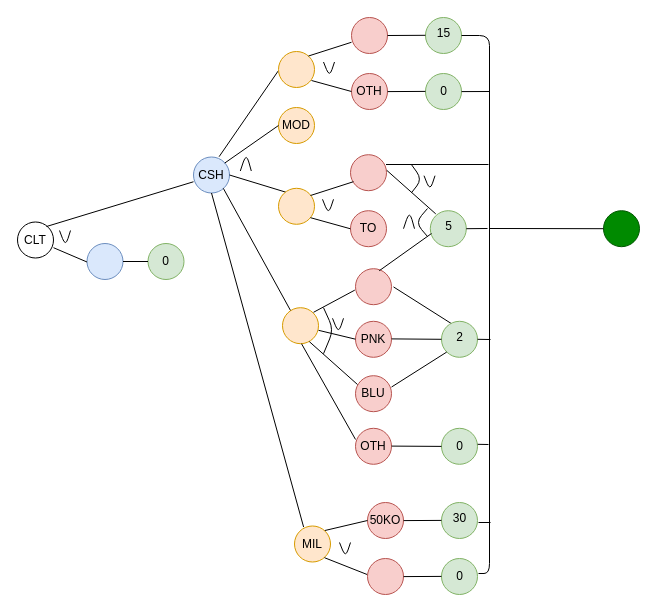
Image size: 657x612. Some labels were removed from this diagram. Each missing label, with the centre of its shape:
"50KB" goes at point 385,576.
"COL" goes at point 300,325.
"CRT" goes at point 104,261.
"ELC" goes at point 369,35.
"INT" goes at point 296,205.
"MAN" goes at point 296,69.
"SUM" goes at point 621,228.
"T1" goes at point 368,172.
"YEL" goes at point 373,286.
